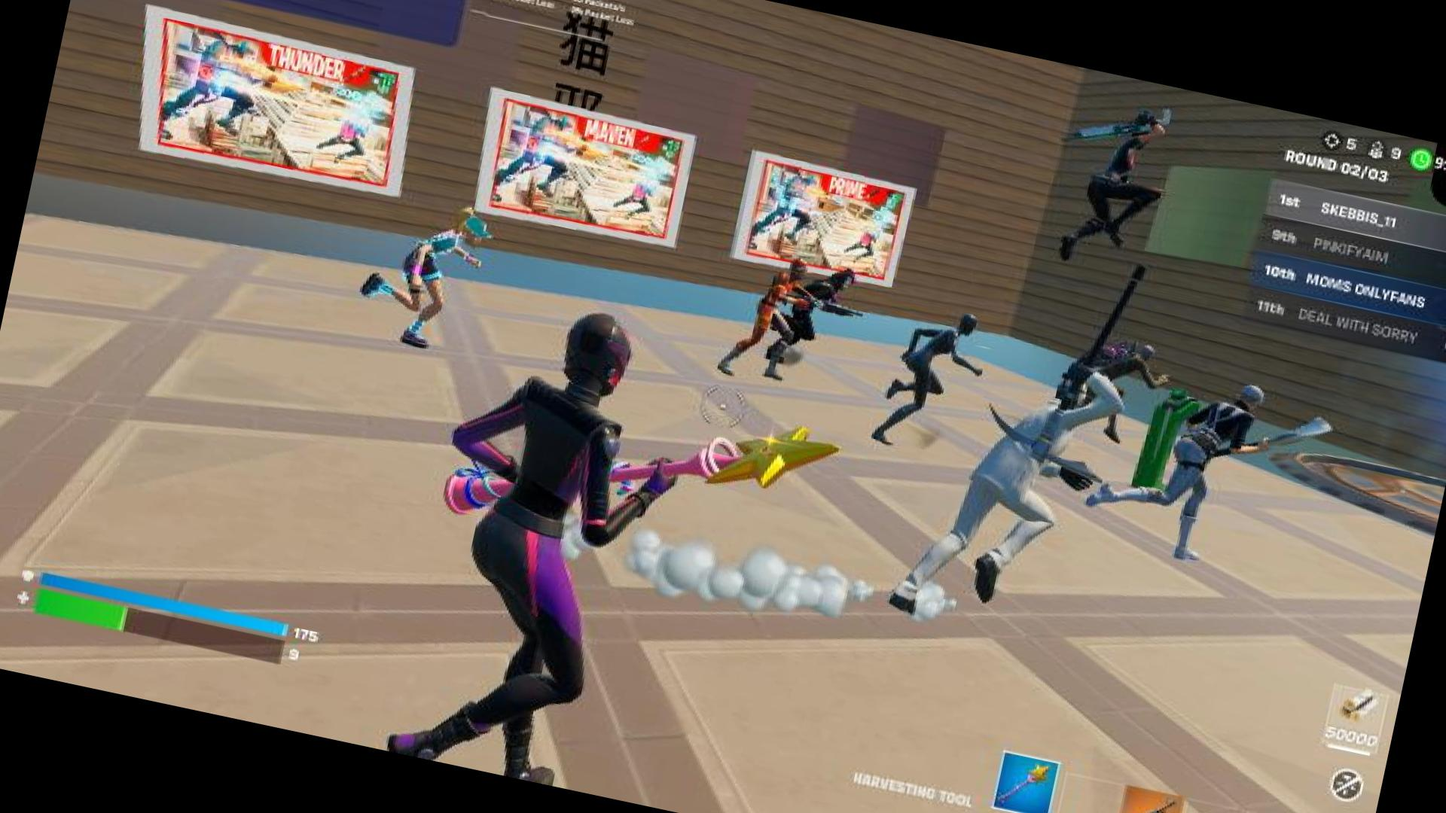player: (940, 349, 1105, 647), (1126, 365, 1273, 569), (855, 285, 1004, 467), (1051, 104, 1196, 287), (348, 186, 491, 363), (1040, 306, 1162, 449), (706, 239, 816, 388), (776, 250, 859, 390)
